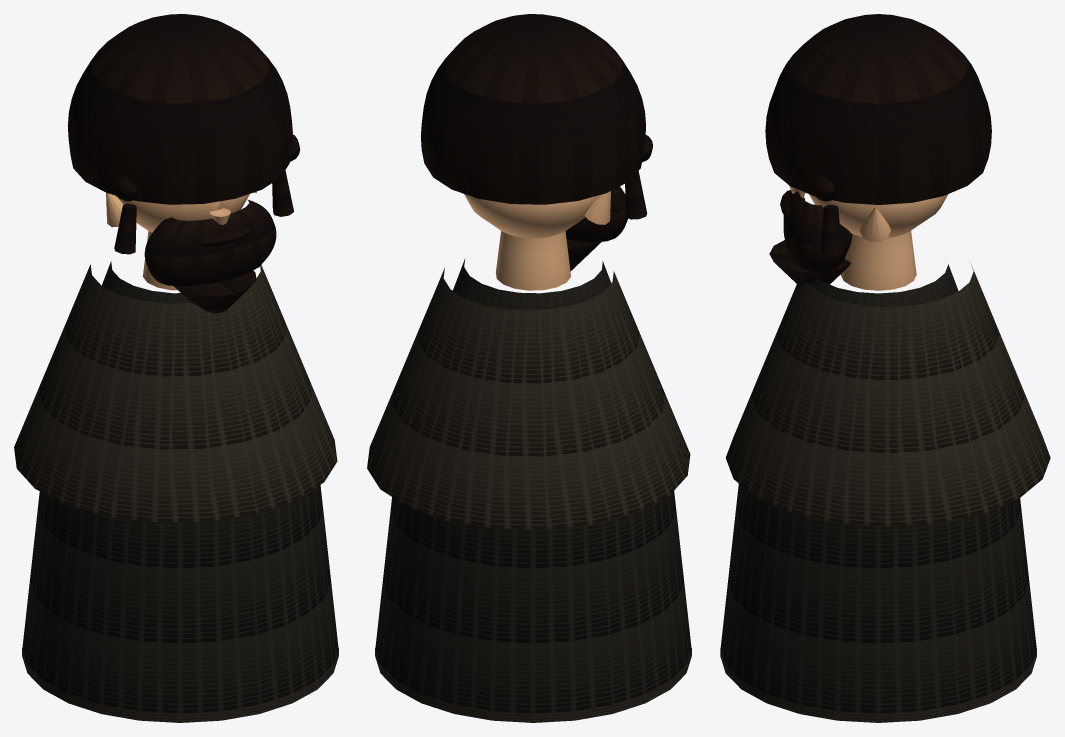
The model's file is galilean_pilgrim.glb.
The picture shows the model from 3 angles, left to right: view 1: azimuth 30°, elevation 25°; view 2: azimuth 150°, elevation 25°; view 3: azimuth 270°, elevation 25°; orthographic projection.
Visible parts, largest first — view 1: Character_galilean_pilgrim, head; view 2: Character_galilean_pilgrim, head; view 3: Character_galilean_pilgrim, head.
Boxes of the visible parts, box(x1,y1,x2,y2) form: Character_galilean_pilgrim: box(14, 14, 338, 722); head: box(115, 194, 249, 232); Character_galilean_pilgrim: box(367, 14, 691, 722); head: box(464, 194, 599, 238); Character_galilean_pilgrim: box(720, 14, 1050, 722); head: box(809, 194, 948, 237).
Bounding box in the file's own units: 0.8393 × 1.8 × 0.8532.
8 materials, 4 textured.
